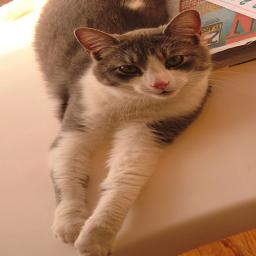catnose: (147, 80, 173, 92)
